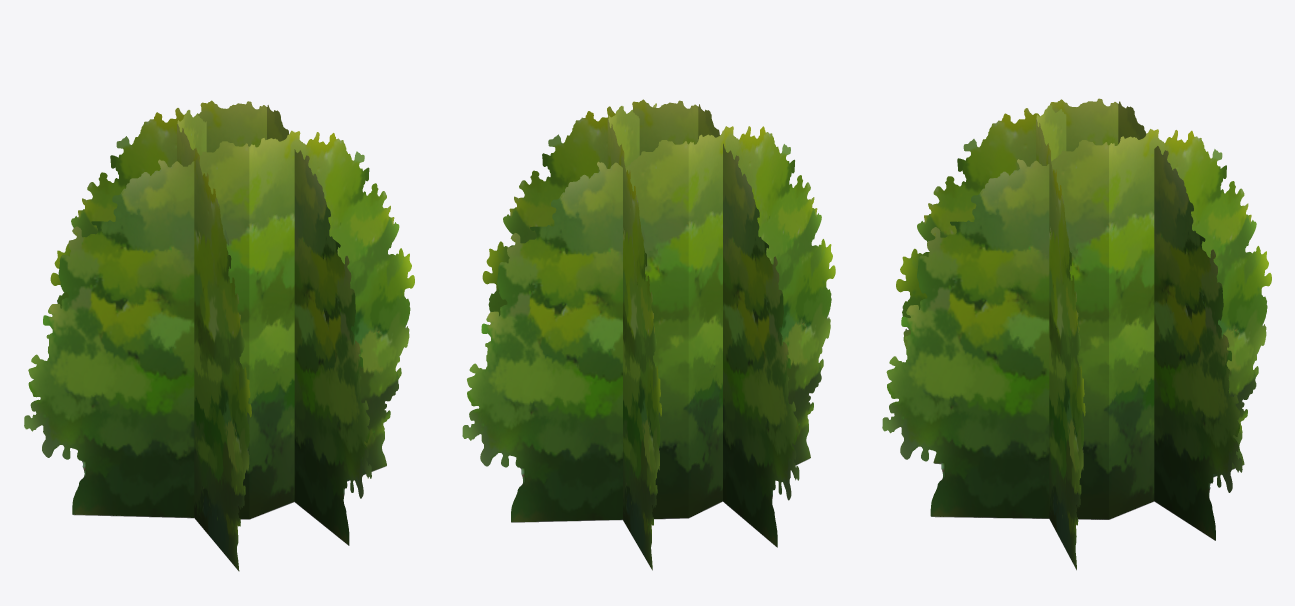
Rendered from bush.fbx.
The picture shows the model from 3 angles, left to right: view 1: azimuth 30°, elevation 25°; view 2: azimuth 150°, elevation 25°; view 3: azimuth 270°, elevation 25°; orthographic projection.
Parts seen in each view (by area): view 1: bush_01_001; view 2: bush_01_001; view 3: bush_01_001.
Part boxes in pixels (x1,y1,x2,y2): bush_01_001: (24,100,414,571); bush_01_001: (462,99,835,570); bush_01_001: (882,98,1271,570).
Bounding box in the file's own units: 2219 × 2256 × 2108.
